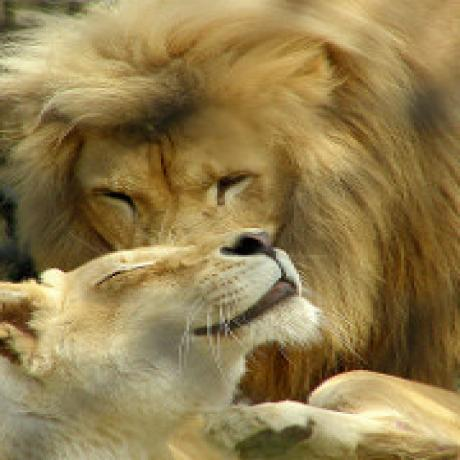Lion: (0, 0, 460, 270), (0, 229, 321, 460)
